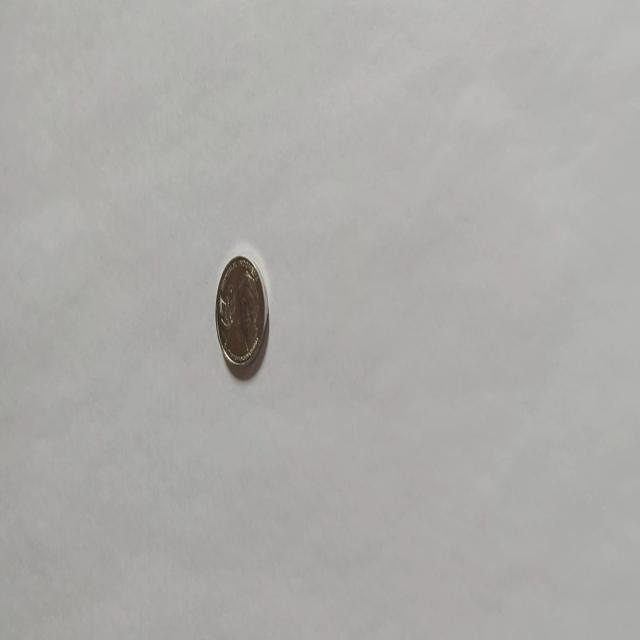dua ratus rupiah: (214, 253, 268, 370)
